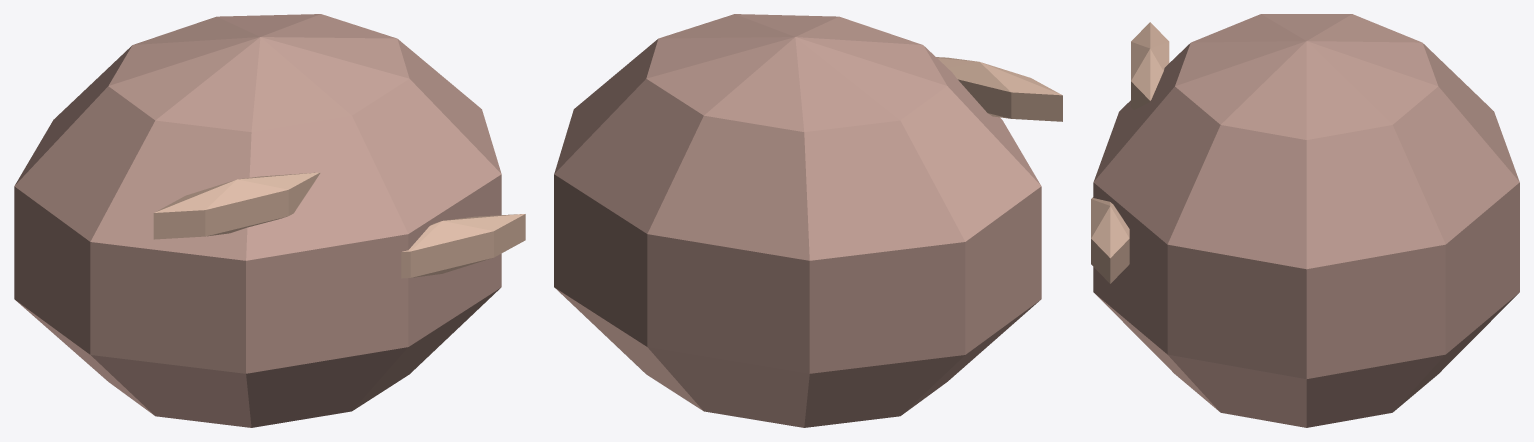
The model's file is roca_caida.glb.
3 renders of one model, left to right at view 1: azimuth 30°, elevation 25°; view 2: azimuth 150°, elevation 25°; view 3: azimuth 270°, elevation 25°, orthographic. The views are drawn at different scales.
Visible parts, largest first — view 1: roca_caida; view 2: roca_caida; view 3: roca_caida.
Boxes of the visible parts, <box> form: roca_caida: <box>14,14,525,427</box>; roca_caida: <box>554,14,1062,427</box>; roca_caida: <box>1091,14,1519,427</box>.
Size of the model in its own units: 1.7 by 1.38 by 1.51.
